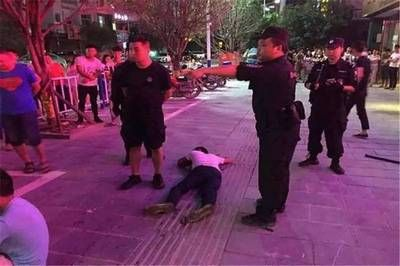10+: (1, 27, 400, 264)
down: (145, 142, 239, 227)
